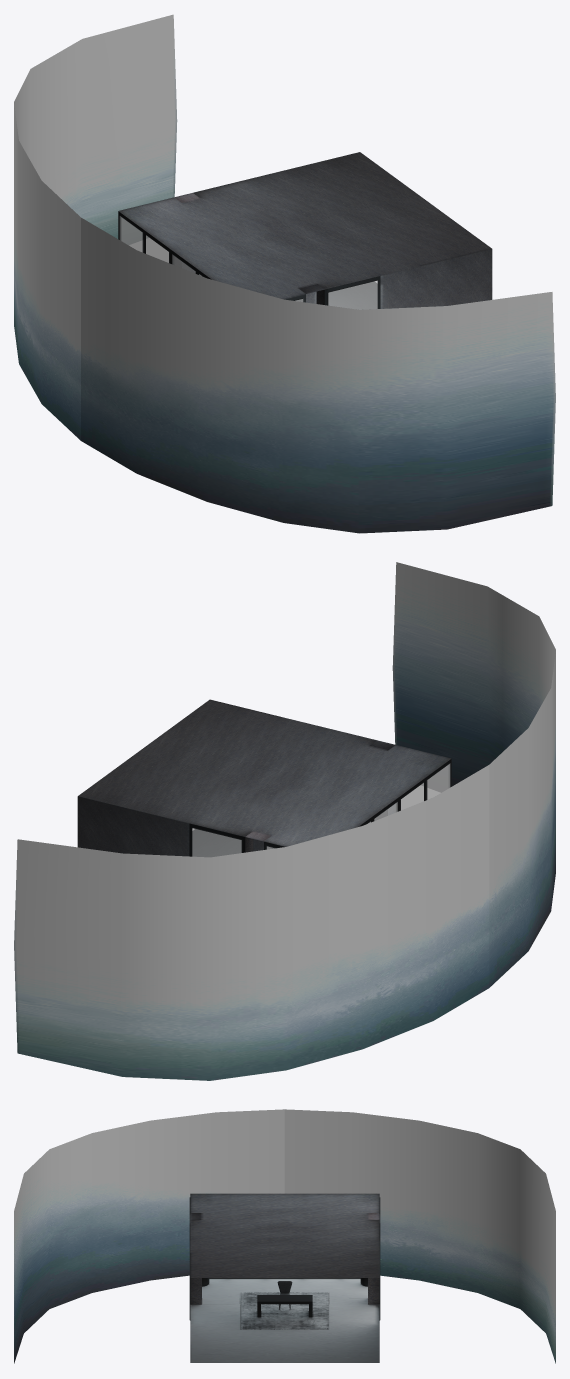
The model's file is boss_office.fbx.
The picture shows the model from 3 angles, top to bottom: view 1: azimuth 30°, elevation 25°; view 2: azimuth 150°, elevation 25°; view 3: azimuth 270°, elevation 25°; orthographic projection. The views are drawn at different scales.
Visible parts, largest first — view 1: Minimalistic Modern Office; view 2: Minimalistic Modern Office; view 3: Minimalistic Modern Office, Carpet.
Boxes of the visible parts, <box> form: Minimalistic Modern Office: <box>14,14,555,533</box>; Minimalistic Modern Office: <box>14,562,555,1080</box>; Minimalistic Modern Office: <box>14,1109,555,1363</box>; Carpet: <box>241,1292,328,1329</box>.
Bounding box in the file's own units: 3711 × 2297 × 7052.
